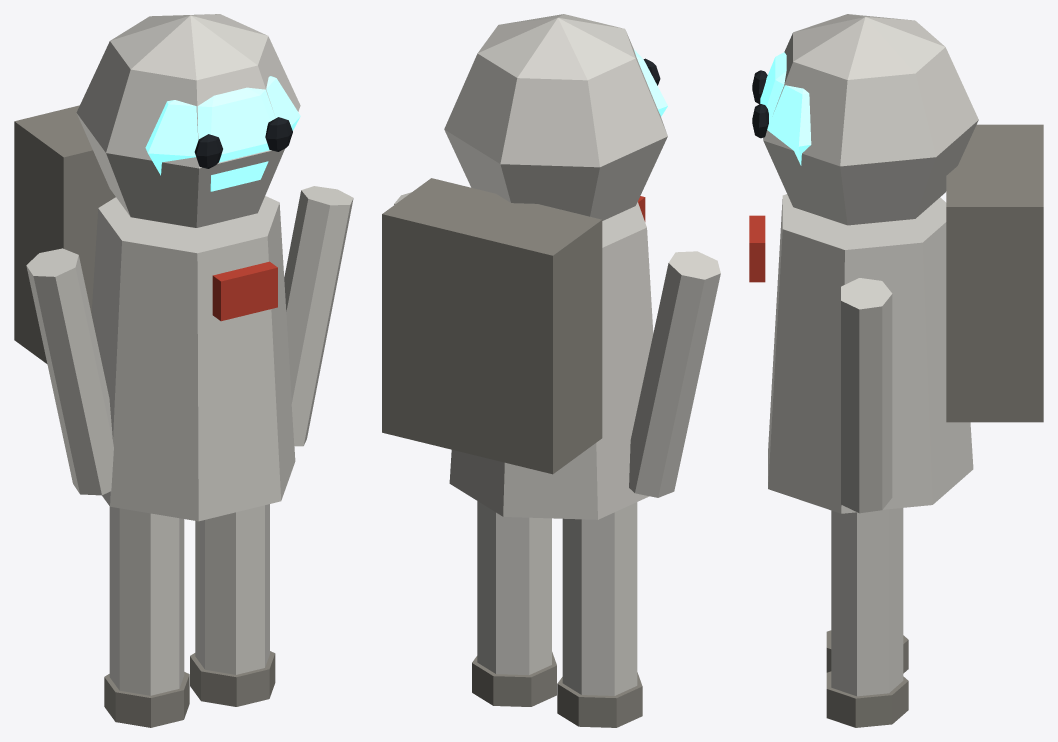
The model's file is astronaut-lod1.glb.
The picture shows the model from 3 angles, left to right: view 1: azimuth 30°, elevation 25°; view 2: azimuth 150°, elevation 25°; view 3: azimuth 270°, elevation 25°; orthographic projection.
Visible parts, largest first — view 1: astronaut; view 2: astronaut; view 3: astronaut.
Part boxes in pixels (<box>): astronaut: <box>14,14,353,727</box>; astronaut: <box>382,14,720,727</box>; astronaut: <box>749,14,1043,727</box>.
Bounding box in the file's own units: 0.6736 × 1.37 × 0.545.
